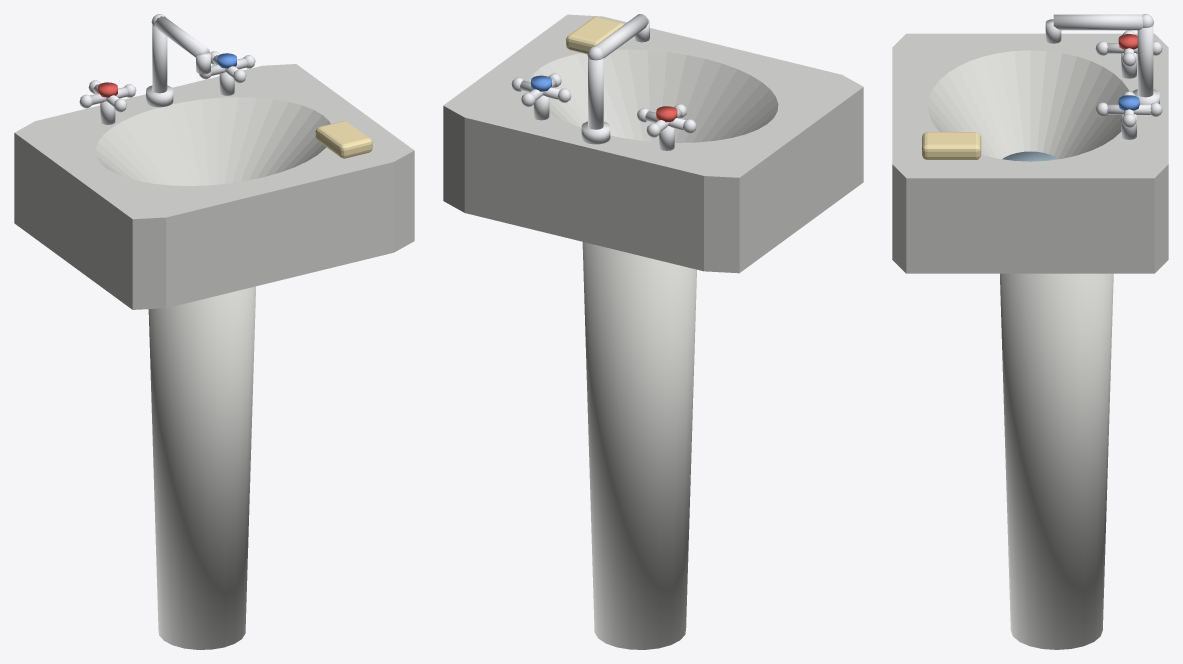
File: sink.glb
3 renders of one model, left to right at view 1: azimuth 30°, elevation 25°; view 2: azimuth 150°, elevation 25°; view 3: azimuth 270°, elevation 25°, orthographic. The views are drawn at different scales.
Visible parts, largest first — view 1: SinkBody, TapHot, TapCold; view 2: SinkBody, TapCold, TapHot; view 3: SinkBody, TapCold, TapHot, SinkWater.
Part boxes in pixels (x1,y1,x2,y2): SinkBody: (14, 14, 414, 649); TapHot: (79, 80, 136, 124); TapCold: (199, 51, 255, 95); SinkBody: (443, 14, 863, 649); TapCold: (511, 73, 571, 120); TapHot: (637, 104, 696, 150); SinkBody: (892, 14, 1168, 649); TapCold: (1095, 91, 1162, 139); TapHot: (1095, 30, 1162, 78); SinkWater: (1002, 151, 1058, 161).
Size of the model in its own units: 0.52 by 1.03 by 0.42.
